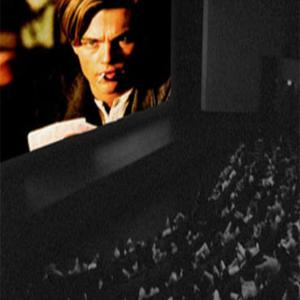cigarette: (95, 73, 106, 84)
